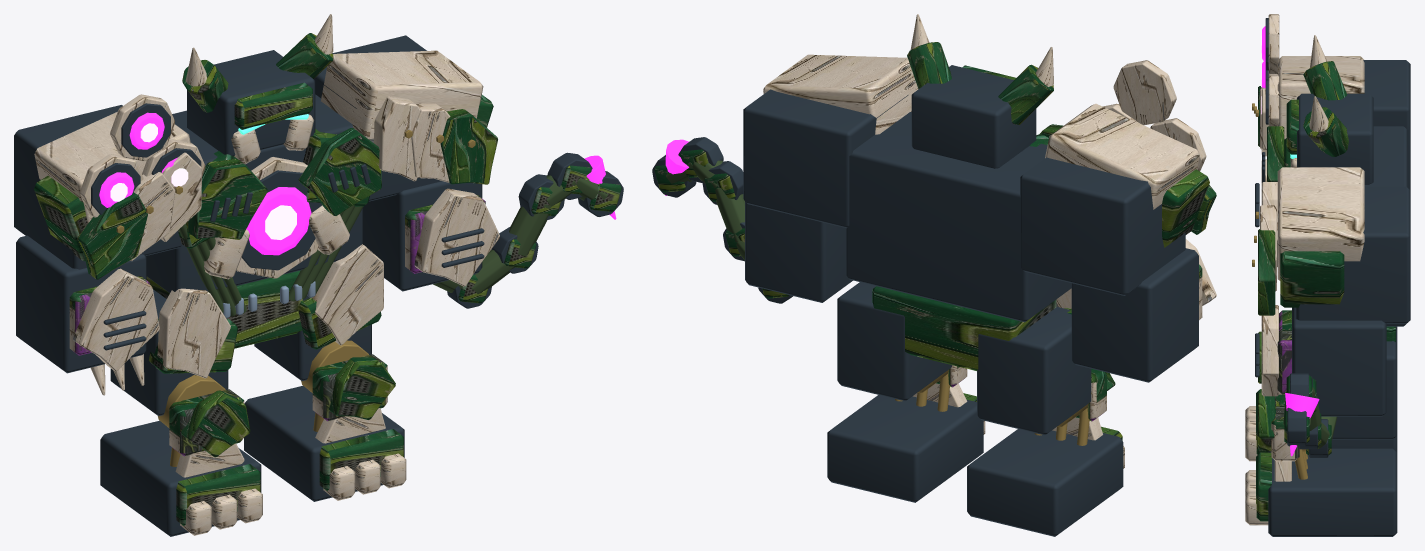
File: verdant_colossus.glb
3 renders of one model, left to right at view 1: azimuth 30°, elevation 25°; view 2: azimuth 150°, elevation 25°; view 3: azimuth 270°, elevation 25°, orthographic. The views are drawn at different scales.
Visible parts, largest first — view 1: Ceramic.005, Ceramic.004, Graphite.004, Ceramic, Cobalt, Graphite.005, Graphite.002, Graphite.003, Graphite, Cobalt.005, Cobalt.004, Cobalt.003 (+15 smaller); view 2: Graphite, Graphite.004, Graphite.005, Graphite.002, Graphite.003, Ceramic.004, Graphite.001, Ceramic.005, Cobalt, Cobalt.001, Cobalt.004, Cobalt.005 (+6 smaller); view 3: Graphite.005, Graphite.003, Ceramic.005, Cobalt.005, Ceramic.004, Graphite.001, Graphite.004, Cobalt.001, Graphite, Ceramic.003, Cobalt.003, Cobalt (+8 smaller).
Part boxes in pixels (x1=…): Ceramic.005: x1=321, y1=50, x2=499, y2=286; Ceramic.004: x1=34, y1=94, x2=205, y2=395; Graphite.004: x1=14, y1=103, x2=201, y2=373; Ceramic: x1=157, y1=157, x2=383, y2=378; Cobalt: x1=146, y1=128, x2=381, y2=348; Graphite.005: x1=314, y1=35, x2=623, y2=308; Graphite.002: x1=100, y1=289, x2=261, y2=536; Graphite.003: x1=244, y1=295, x2=404, y2=501; Graphite: x1=146, y1=94, x2=370, y2=292; Cobalt.005: x1=405, y1=95, x2=621, y2=303; Cobalt.004: x1=34, y1=175, x2=150, y2=355; Cobalt.003: x1=298, y1=297, x2=403, y2=490; Graphite: x1=845, y1=112, x2=1071, y2=322; Graphite.004: x1=1020, y1=157, x2=1198, y2=382; Graphite.005: x1=652, y1=89, x2=908, y2=303; Graphite.002: x1=967, y1=306, x2=1123, y2=536; Graphite.003: x1=827, y1=282, x2=983, y2=502; Ceramic.004: x1=1045, y1=60, x2=1216, y2=305; Graphite.001: x1=911, y1=65, x2=1036, y2=168; Ceramic.005: x1=763, y1=54, x2=918, y2=134; Cobalt: x1=872, y1=124, x2=1063, y2=370; Cobalt.001: x1=907, y1=42, x2=1053, y2=124; Cobalt.004: x1=1162, y1=169, x2=1216, y2=319; Cobalt.005: x1=654, y1=149, x2=788, y2=298; Graphite.005: x1=1255, y1=186, x2=1410, y2=457; Graphite.003: x1=1268, y1=329, x2=1397, y2=536; Ceramic.005: x1=1260, y1=167, x2=1364, y2=396; Cobalt.005: x1=1258, y1=229, x2=1344, y2=455; Ceramic.004: x1=1260, y1=14, x2=1364, y2=182; Graphite.001: x1=1297, y1=93, x2=1373, y2=184; Graphite.004: x1=1255, y1=18, x2=1410, y2=227; Cobalt.001: x1=1286, y1=61, x2=1348, y2=156; Graphite: x1=1262, y1=126, x2=1408, y2=326; Ceramic.003: x1=1245, y1=394, x2=1299, y2=525; Cobalt.003: x1=1256, y1=392, x2=1275, y2=521; Cobalt: x1=1267, y1=126, x2=1395, y2=341.
Bounding box in the file's own units: 4.62 × 3.63 × 1.3.
Materials: 9 (2 with a texture image).
